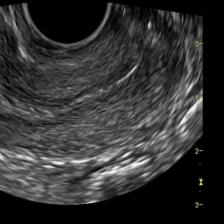no-pcos: (0, 17, 182, 200)
